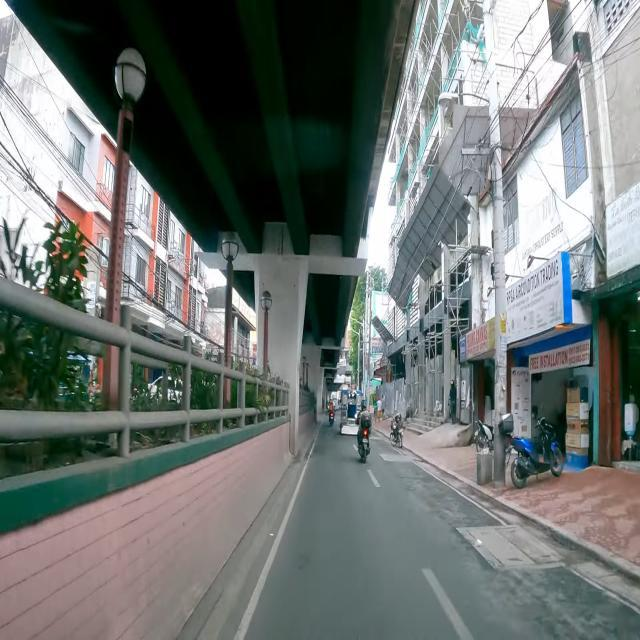jeepney: (340, 388, 363, 436)
motorcycle: (498, 403, 565, 490), (354, 401, 372, 464), (474, 418, 494, 454), (391, 412, 404, 448), (328, 398, 336, 426)
